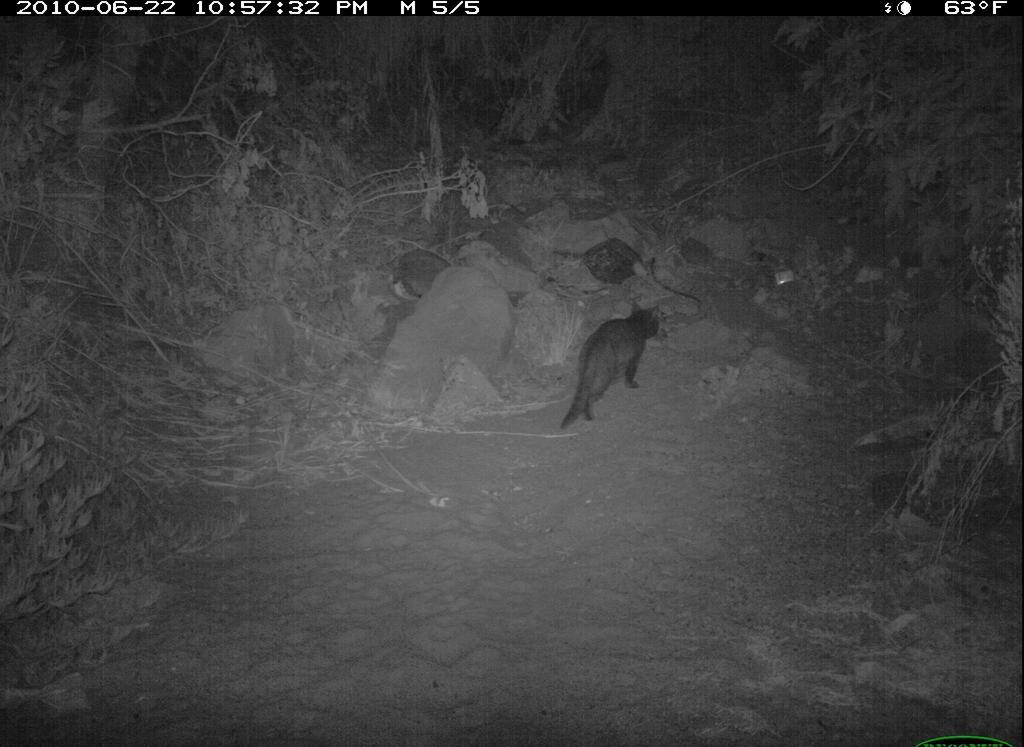cat: (555, 301, 662, 436)
